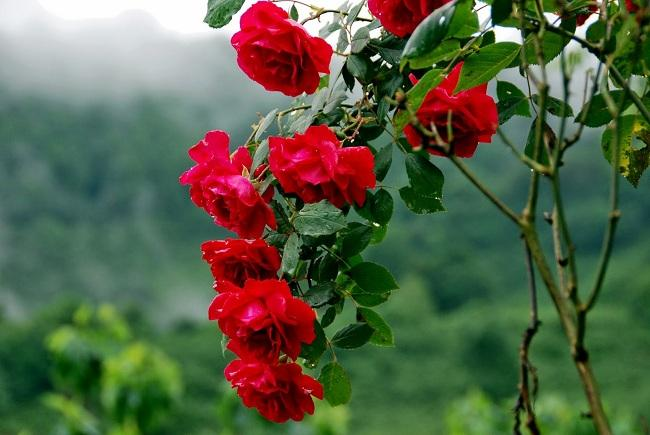Rose: (160, 124, 276, 238), (272, 117, 391, 222), (225, 4, 342, 101), (394, 59, 500, 164), (211, 271, 328, 358), (219, 351, 335, 431), (187, 224, 289, 291)
